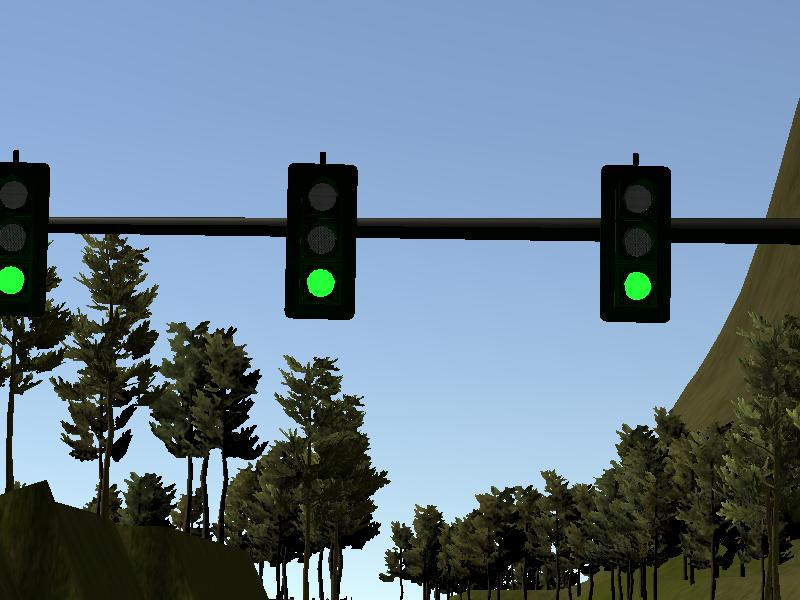not_red: (599, 163, 673, 325), (284, 161, 354, 321), (1, 161, 45, 315)
